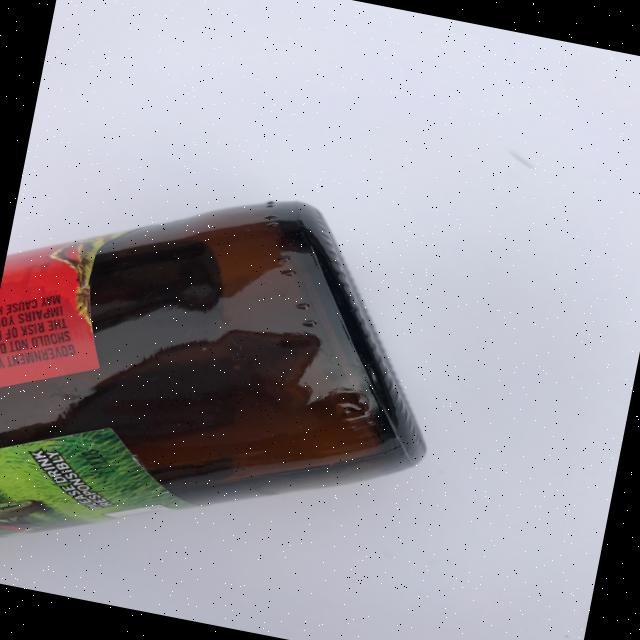glass: (0, 147, 470, 630)
